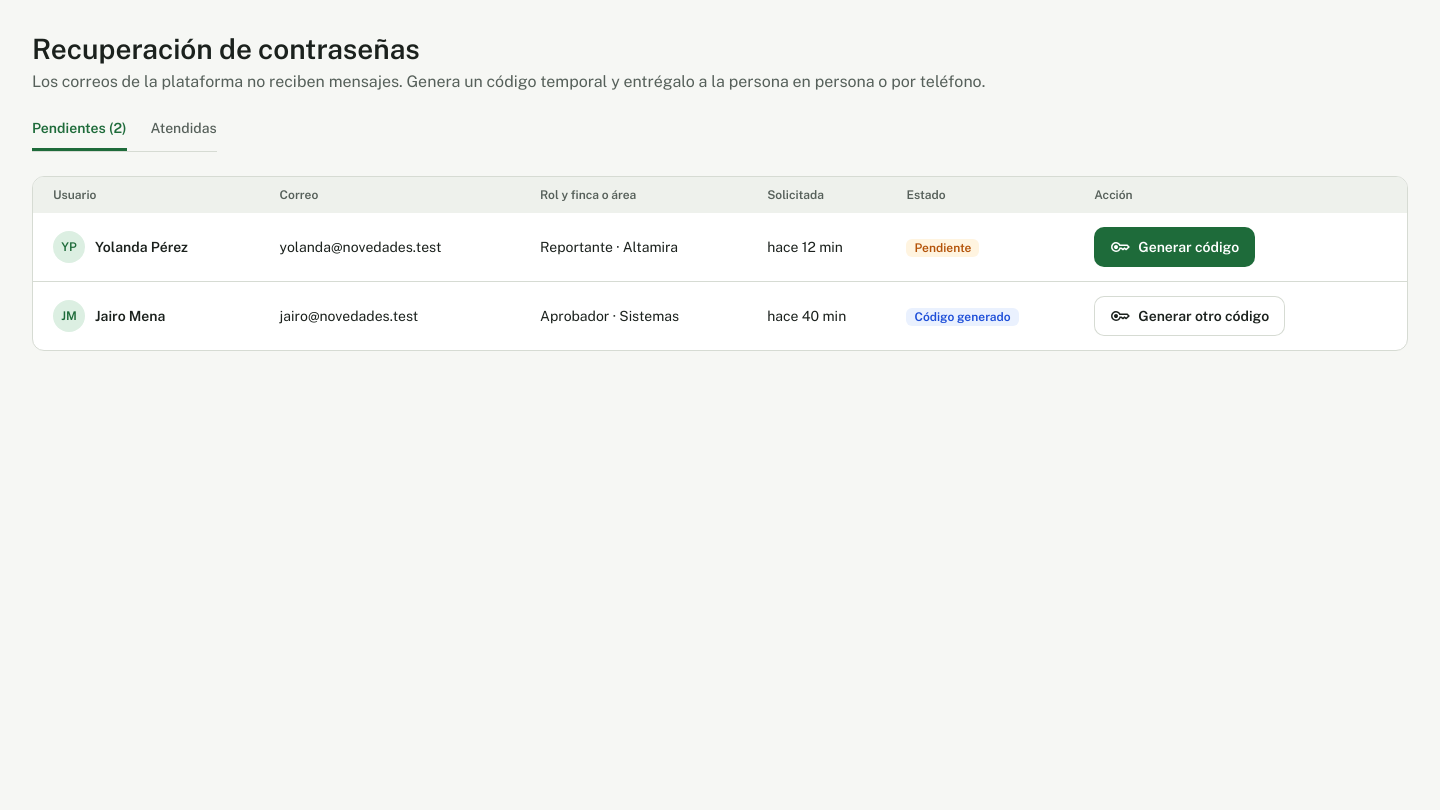
Pantalla 32 · Generar el código temporal (RF-02 / CU-02 6 y 7) › RNF-11: al cerrar con «Listo» el código desaparece, y la solicitud queda con «Código generado»
Check: the text "Yolanda Pérez" is shown, box [95, 237, 188, 257]
Click the button with aria-label "Generar código para Yolanda Pérez" at [1175, 247], box [1094, 227, 1255, 267]
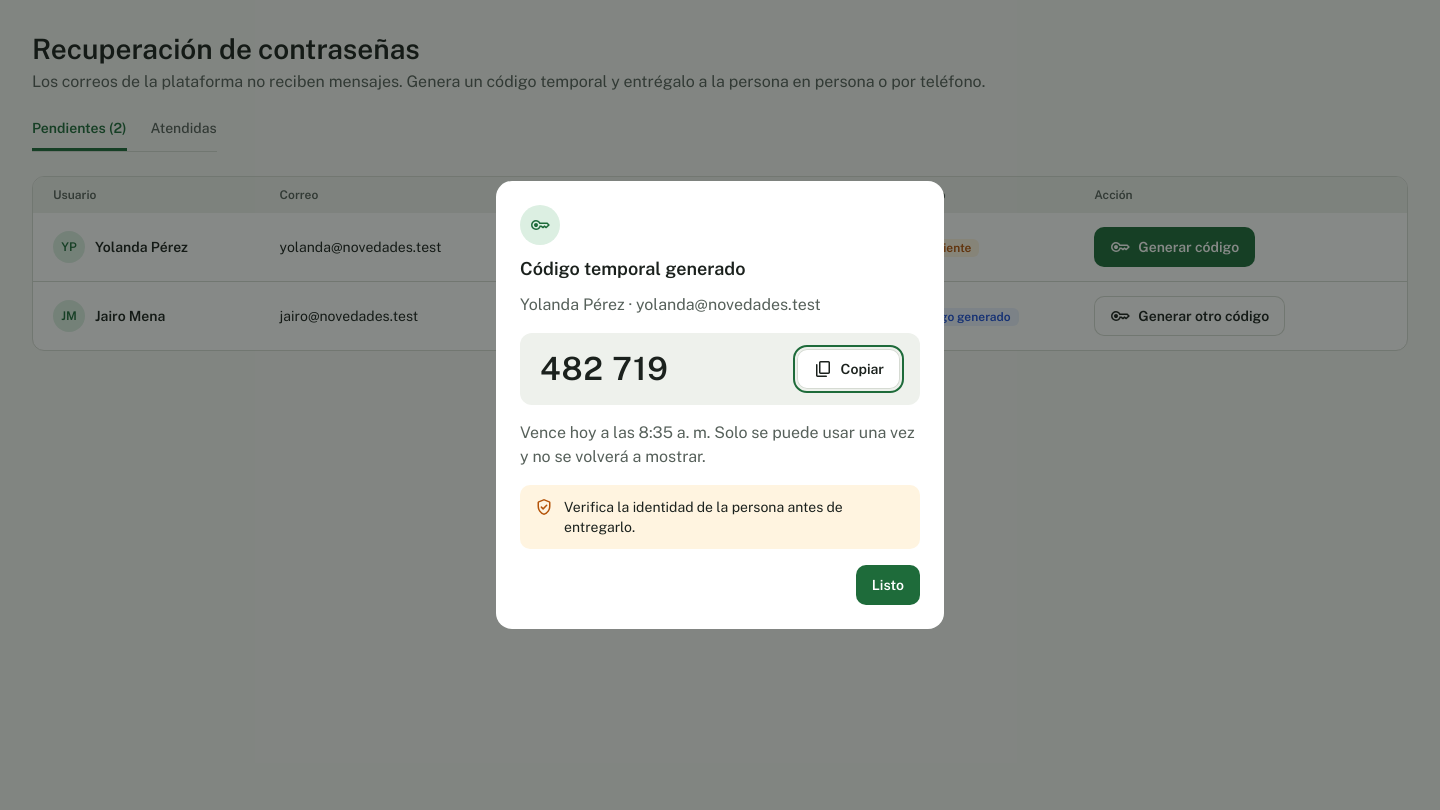
Click the button "Listo" at [888, 585], box [856, 565, 920, 605]
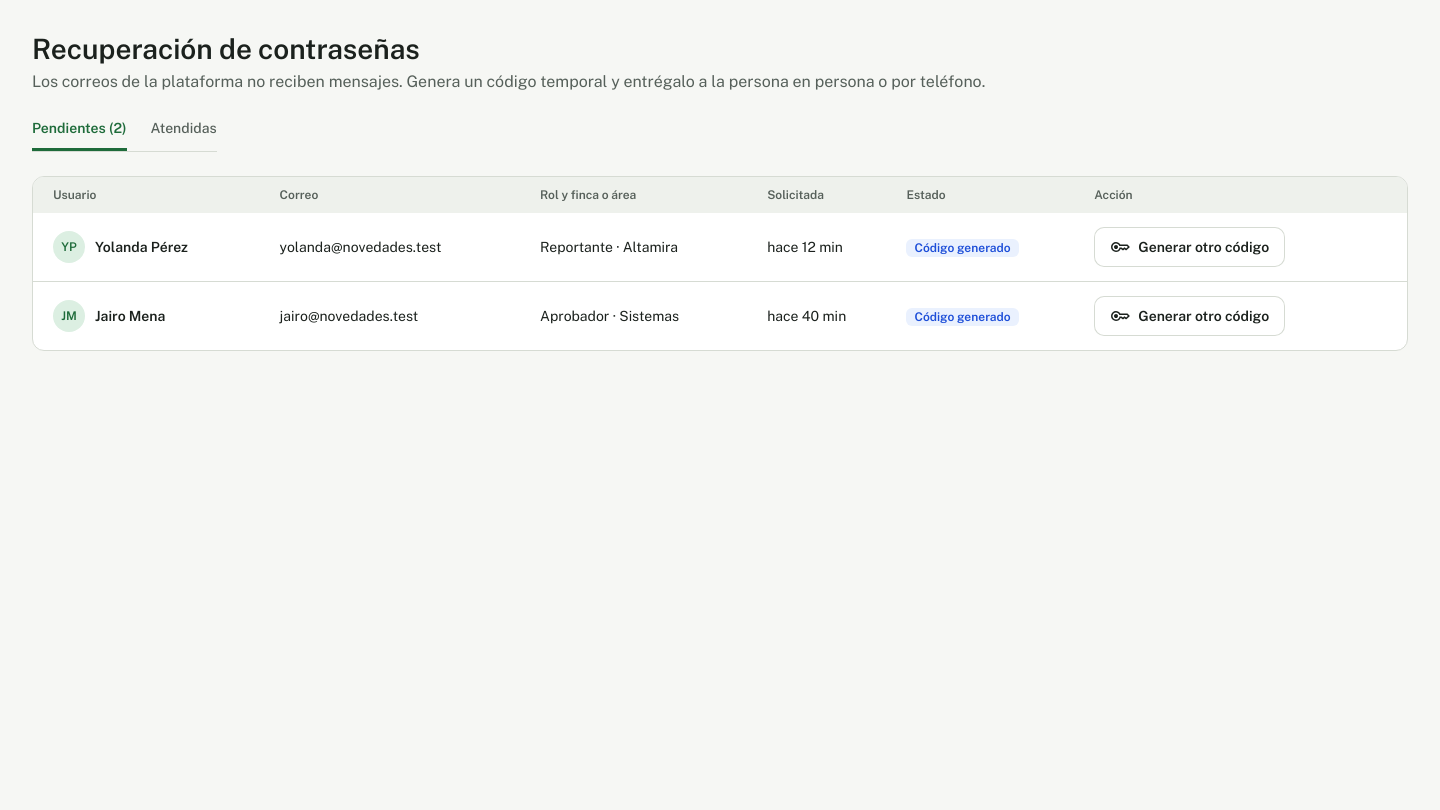
Check: the text "Código generado" in the row of "YP" is shown, box [914, 241, 1011, 255]
Check: the heading "Código temporal generado" is gone
Check: the text "482 719" is gone
